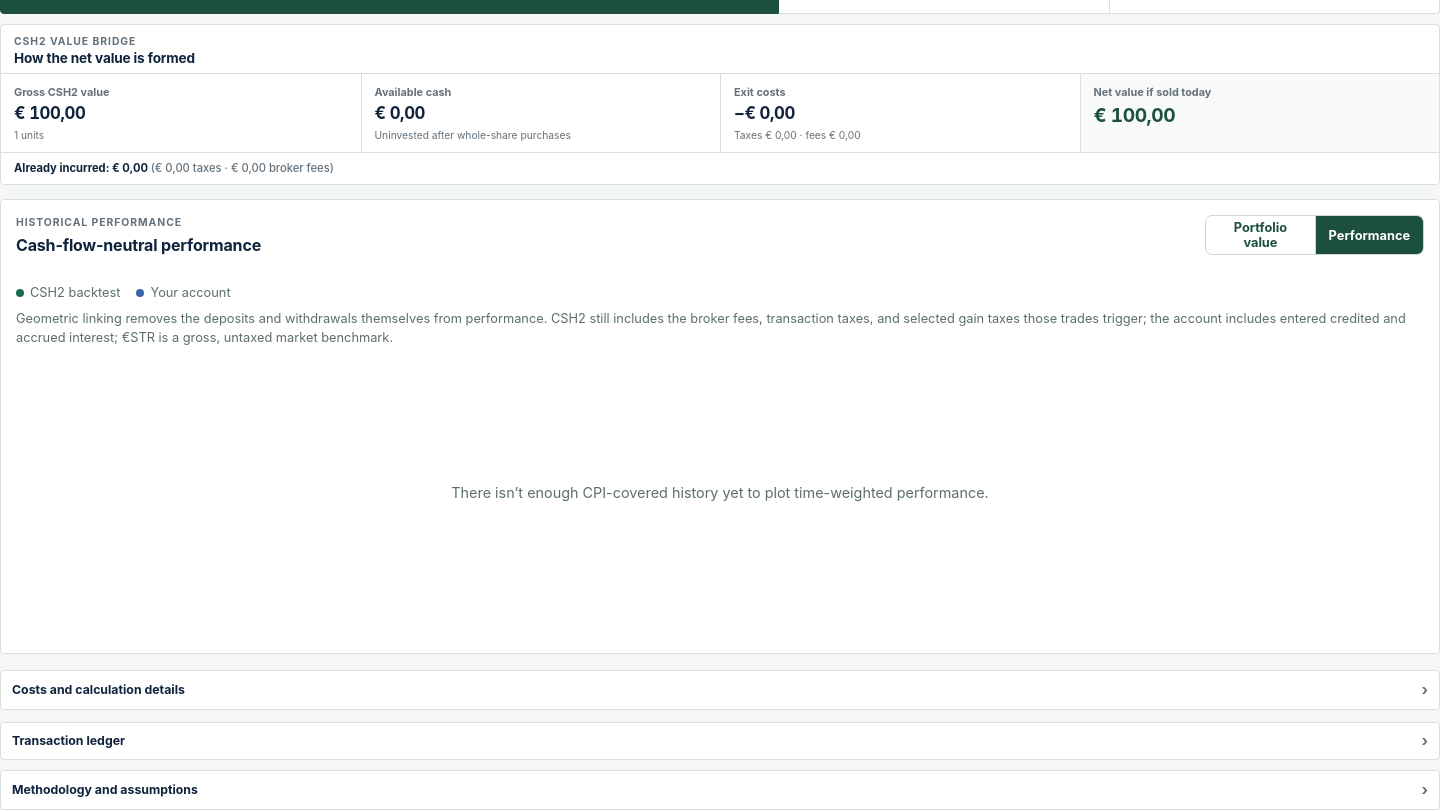
Test: outcome summary emphasis › exposes both return values and the difference in the comparison table
(page scrolled)
Click the heading "Costs and calculation details": click(98, 690) [12,682,185,697]
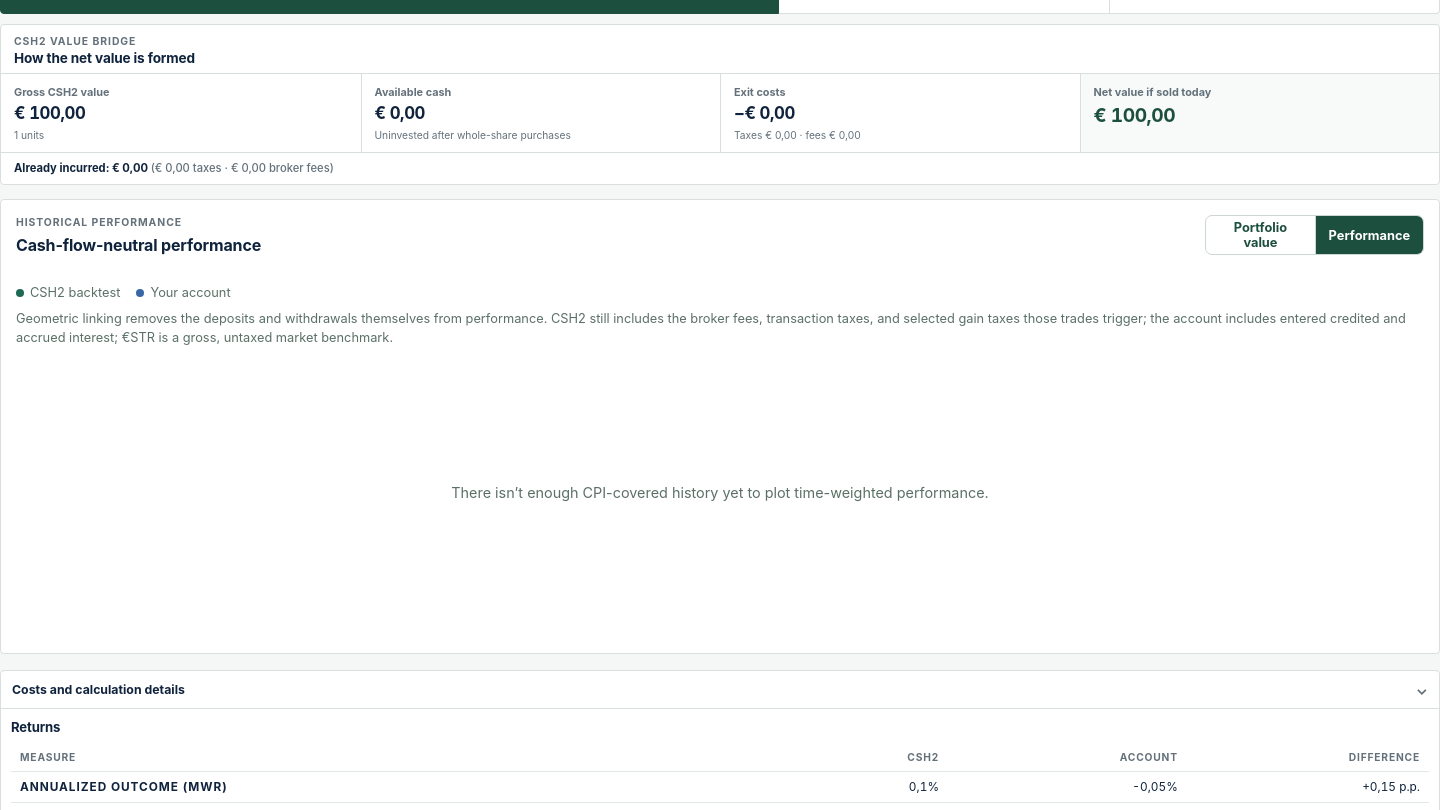
expect the column heading "Annualized outcome (MWR)" is shown: met, box [11,771,709,802]
expect the text "Annualized outcome (MWR)" shows "0,1%": met, box [909,780,939,794]
expect the text "Annualized outcome (MWR)" shows "-0,05%": met, box [1132,780,1178,794]
